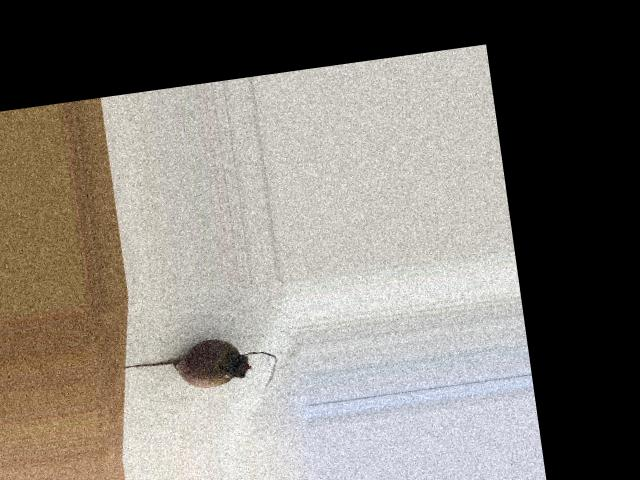beet: (119, 330, 279, 405)
